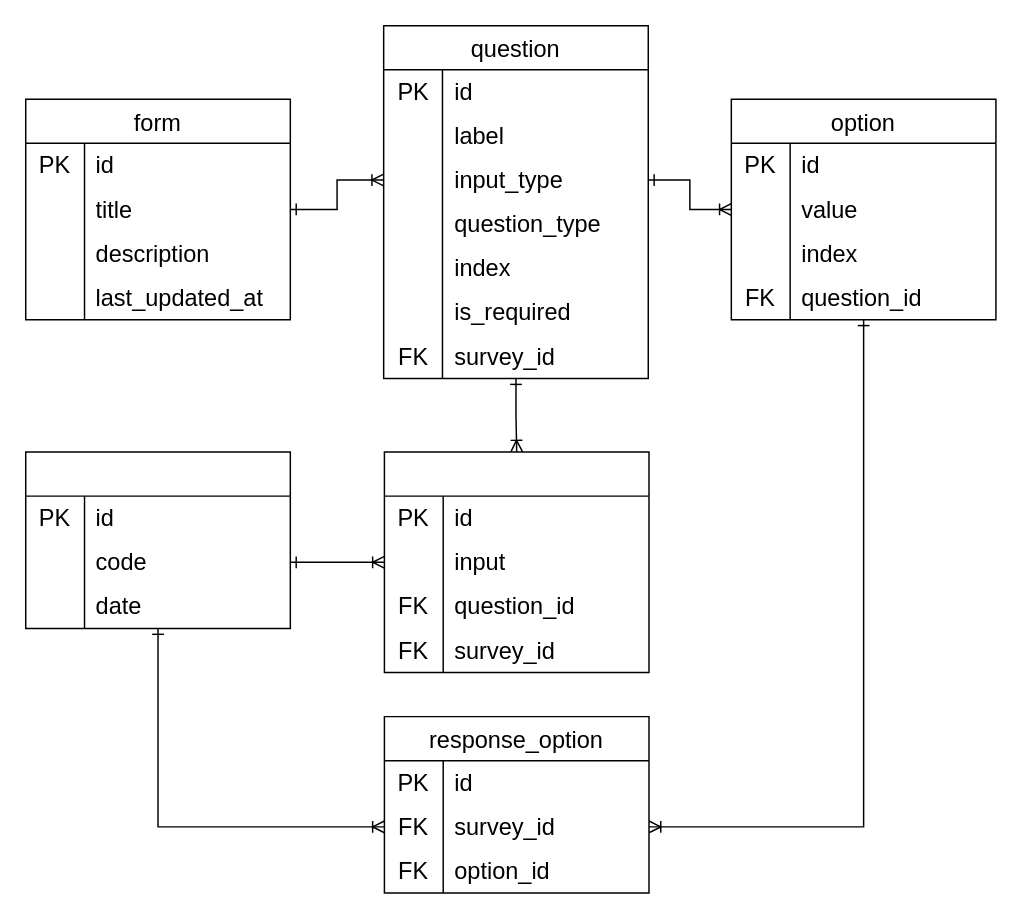
Some shapes in this 1022 by 919 pixel diagram are drawn without their labels. The box of each missing label's shape, as (x1, y1, x2, y2) in pixels:
response: (383, 451, 649, 673)
survey: (24, 451, 290, 628)
